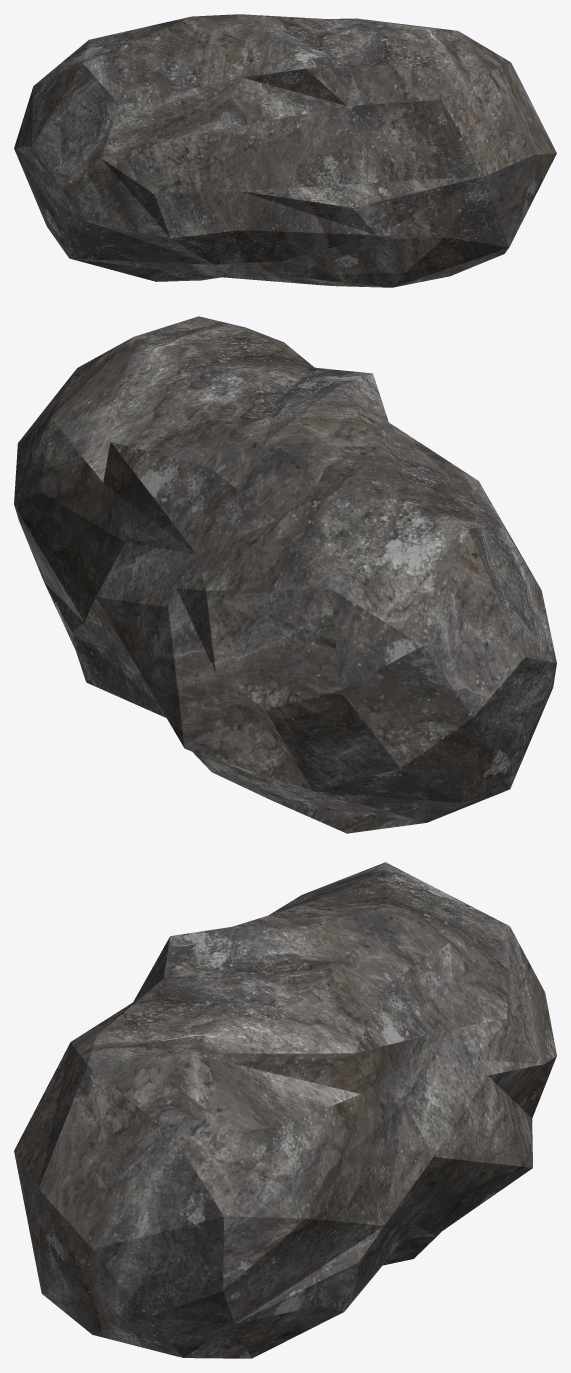
File: LampLight_AltRock_4.FBX
The picture shows the model from 3 angles, top to bottom: view 1: azimuth 30°, elevation 25°; view 2: azimuth 150°, elevation 25°; view 3: azimuth 270°, elevation 25°; orthographic projection. The views are drawn at different scales.
Parts seen in each view (by area): view 1: Bg_Rock_7; view 2: Bg_Rock_7; view 3: Bg_Rock_7.
Part boxes in pixels (<box>): Bg_Rock_7: <box>14,14,556,287</box>; Bg_Rock_7: <box>14,316,556,833</box>; Bg_Rock_7: <box>14,862,556,1358</box>.
Size of the model in its own units: 152 by 86.27 by 123.
